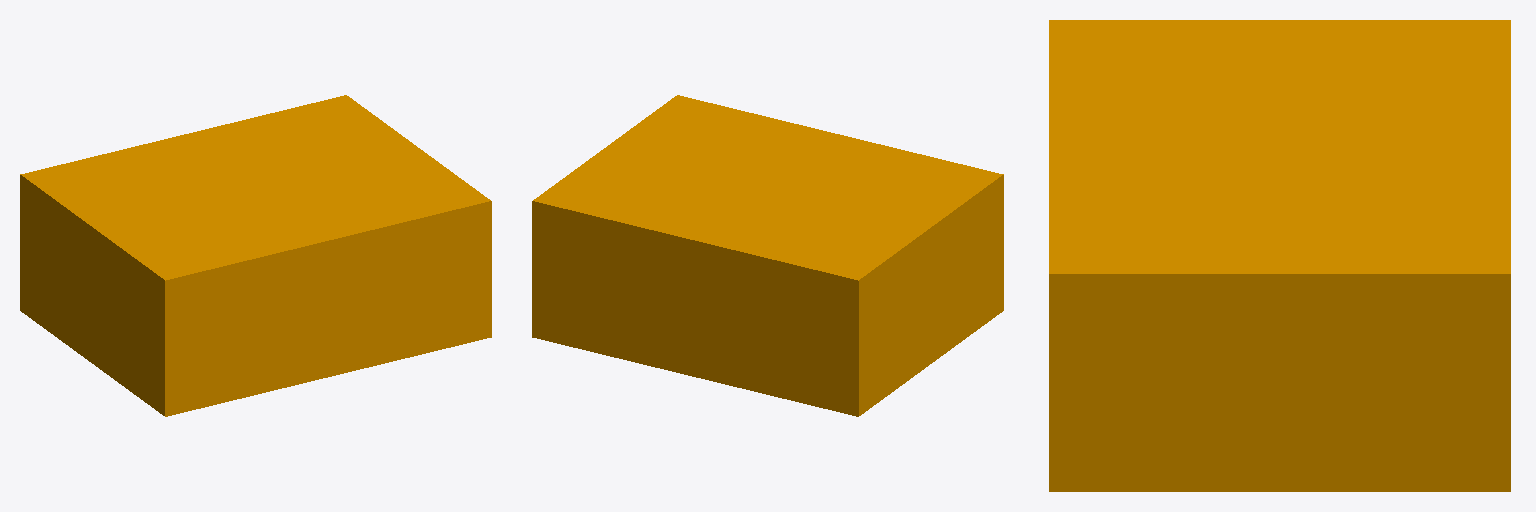
The robot description file, URDF, robot "mobilerobot":
<robot name="mobilerobot">

  <link name="base_link">
    <visual>
      <geometry>
        <box size="0.13 0.1 0.052"/>
      </geometry>
    </visual>
  </link>
  <visual name="regulators">
    <geometry>
      <box size="0.005 0.065 0.02"/>
    </geometry>
    <origin xyz="0.04 0 0.036" rpy="0 0 0"/>
  </visual>
  <visual name="connector">
    <geometry>
      <box size="0.075 0.016 0.026"/>
    </geometry>
    <origin xyz="0 -0.027 0.039" rpy="0 0 0"/>
  </visual>
</robot>

--- What the picture shows (computed from the rendered views, not written in the file) ---
The picture shows the robot from 3 angles, left to right: view 1: azimuth 30°, elevation 25°; view 2: azimuth 150°, elevation 25°; view 3: azimuth 270°, elevation 25°; orthographic projection.
Model mobilerobot with 1 links and 0 joints (none), rooted at base_link, posed every joint at zero.
Links seen in each view (by area): view 1: base_link; view 2: base_link; view 3: base_link.
Boxes of the visible links, bbox=[...] form: base_link: bbox=[20, 95, 491, 416]; base_link: bbox=[532, 95, 1003, 416]; base_link: bbox=[1049, 20, 1510, 491].
Bounding box of the posed robot: 0.13 × 0.1 × 0.052 m (x, y, z).
Geometry: primitives only (box / cylinder / sphere), no mesh files.